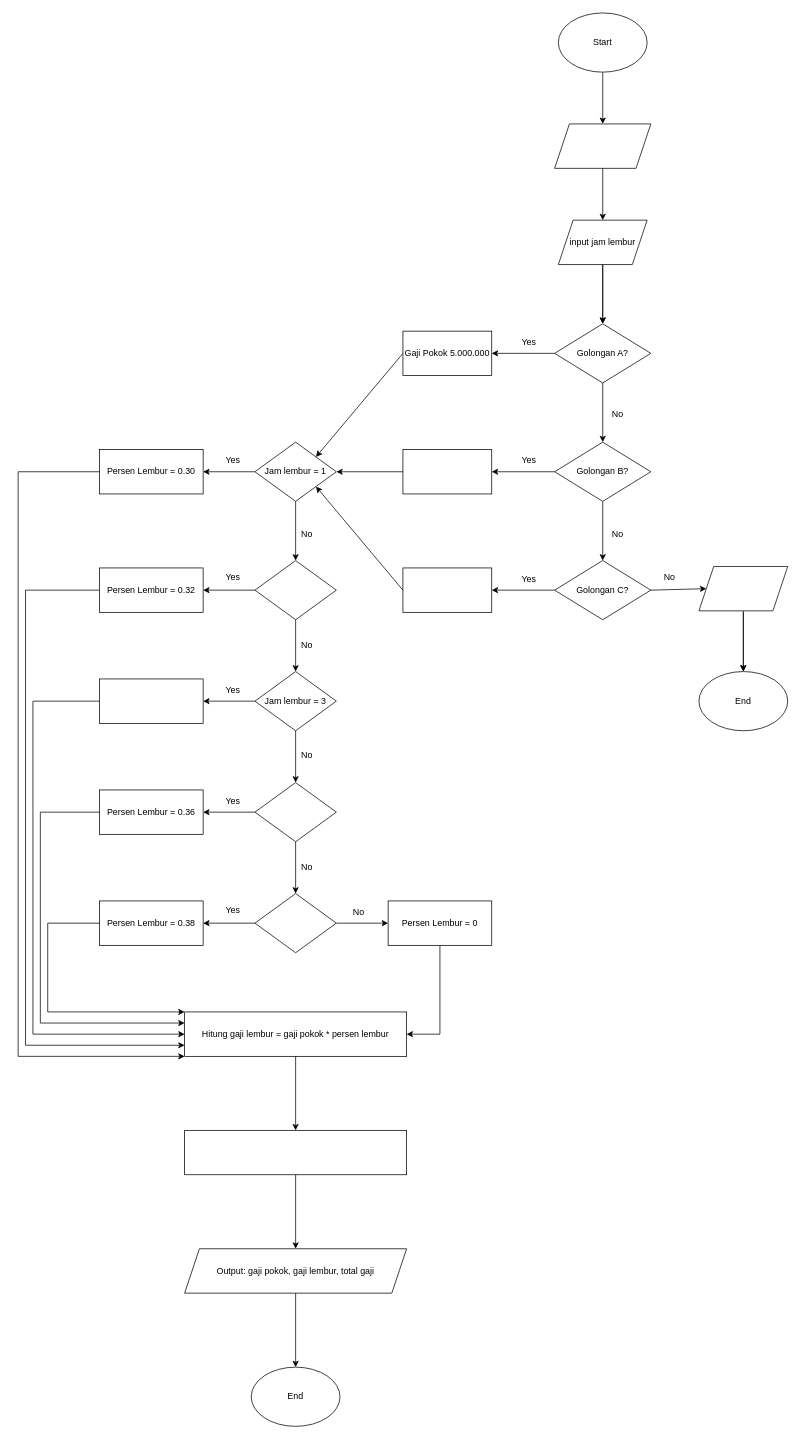
This 801x1439 diagram has some shape labels left out. The box of each missing label's shape, as (x1, y1, x2, y2) in pixels:
Gaji Pokok 6.500.000: (402, 449, 492, 494)
Gaji Pokok: 9.500.000: (402, 567, 492, 612)
Hitung total gaji = gaji pokok + gaji lembur: (184, 1130, 407, 1175)
Input golongan karyawan: (554, 123, 651, 168)
Jam lembur = 2: (254, 560, 336, 620)
Jam lembur = 4: (254, 782, 336, 842)
Jam lembur = 5: (254, 893, 336, 953)
Output Golongan Tidak valid: (698, 566, 788, 611)
Persen Lembur = 0.34: (99, 678, 203, 723)
